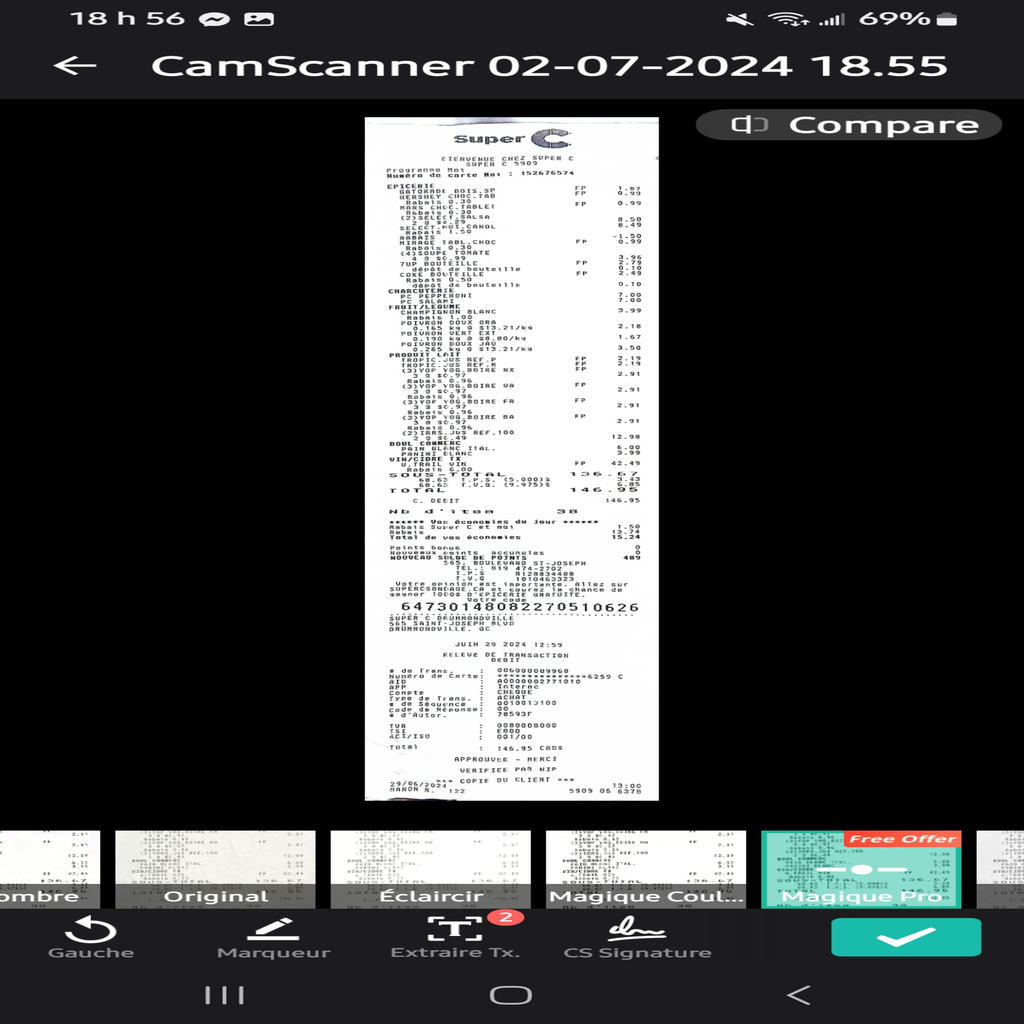recipt: (361, 117, 663, 804)
